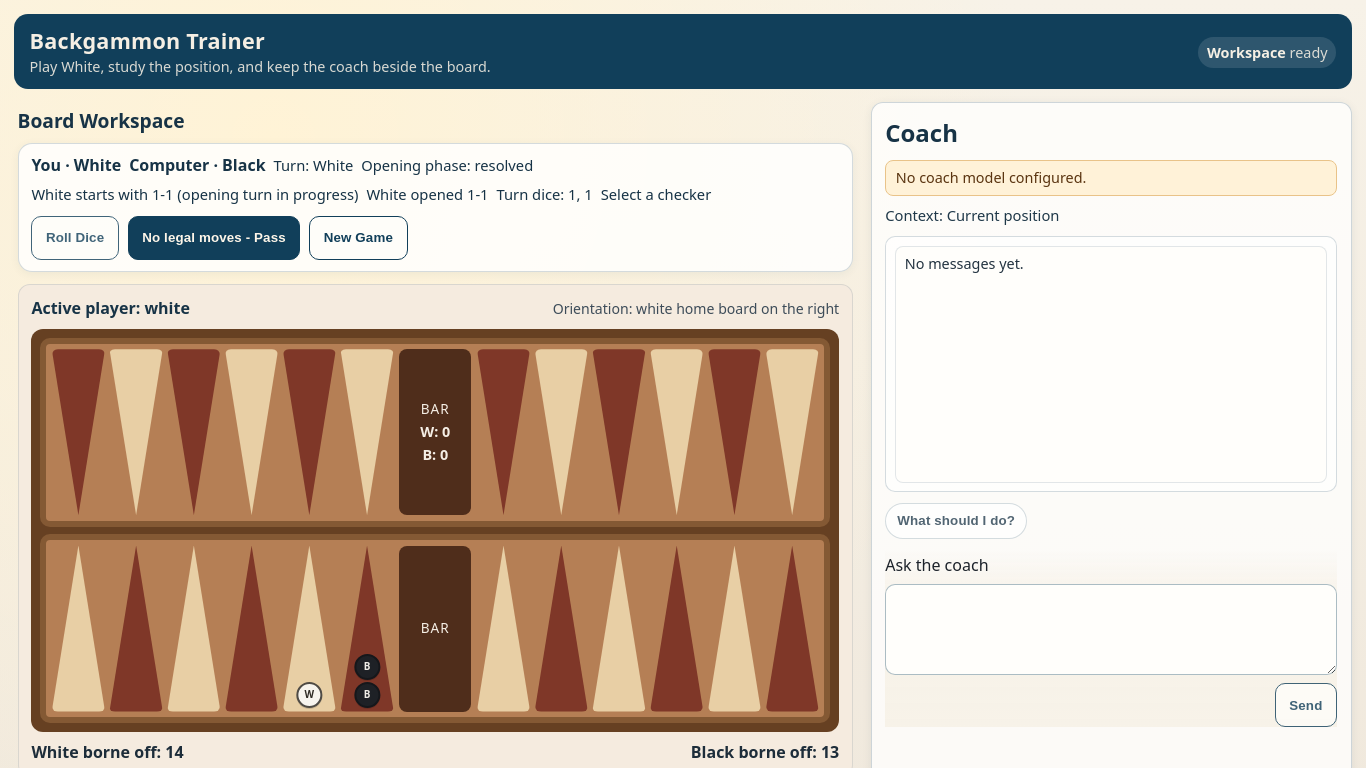
it: App turn transitions and reset behavior › allows pass on an unplayable opening turn and transitions to normal rolling
The image size is (1366, 768).
What coordinates should you click on to do the following:
click the button "No legal moves - Pass"
I would click on:
 (214, 238)
Its box is [128,216,300,260].
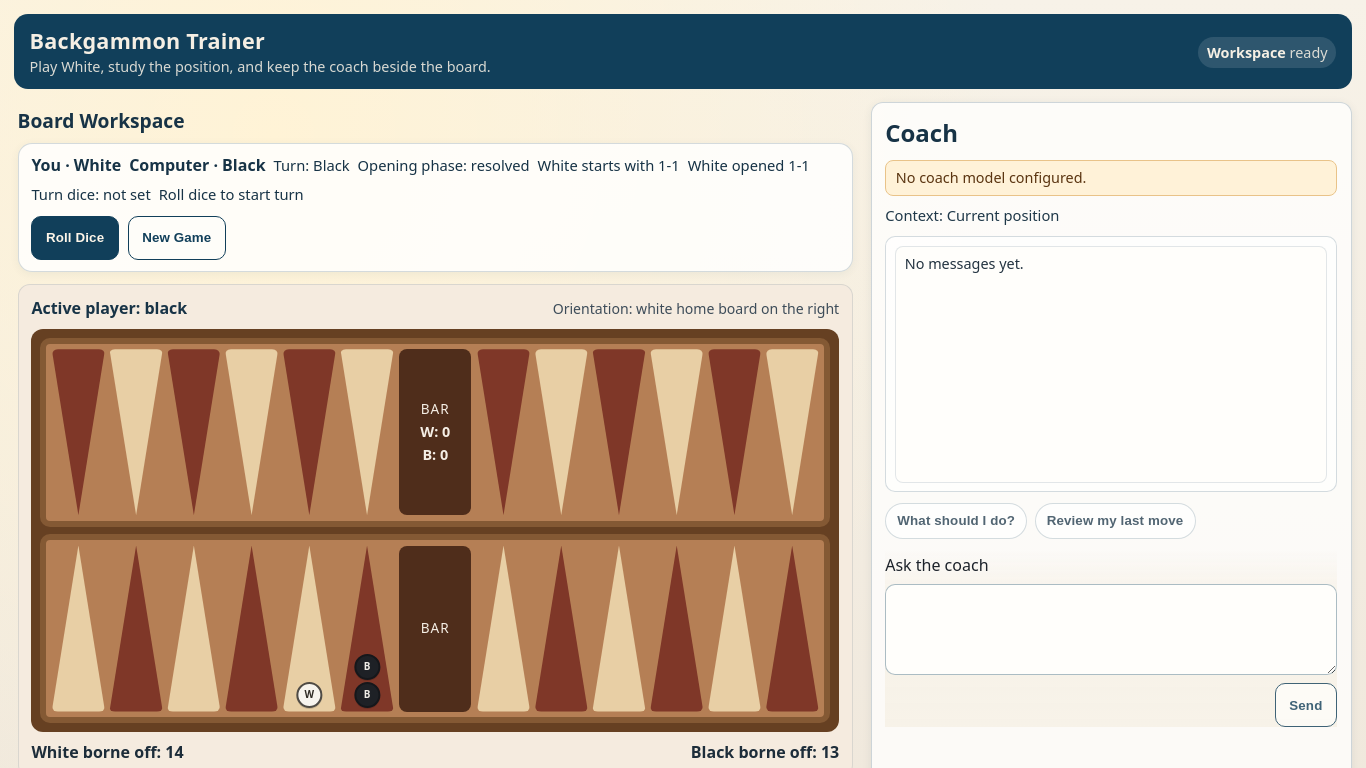
Expected: the text with test id "turn-dice-value" reads "Turn dice: not set", [31,184,151,204]
Expected: the button "Roll Dice" is enabled, [31,216,119,260]
Expected: the text with test id "opening-resolution" no longer shows "opening turn in progress", [538,156,680,176]
